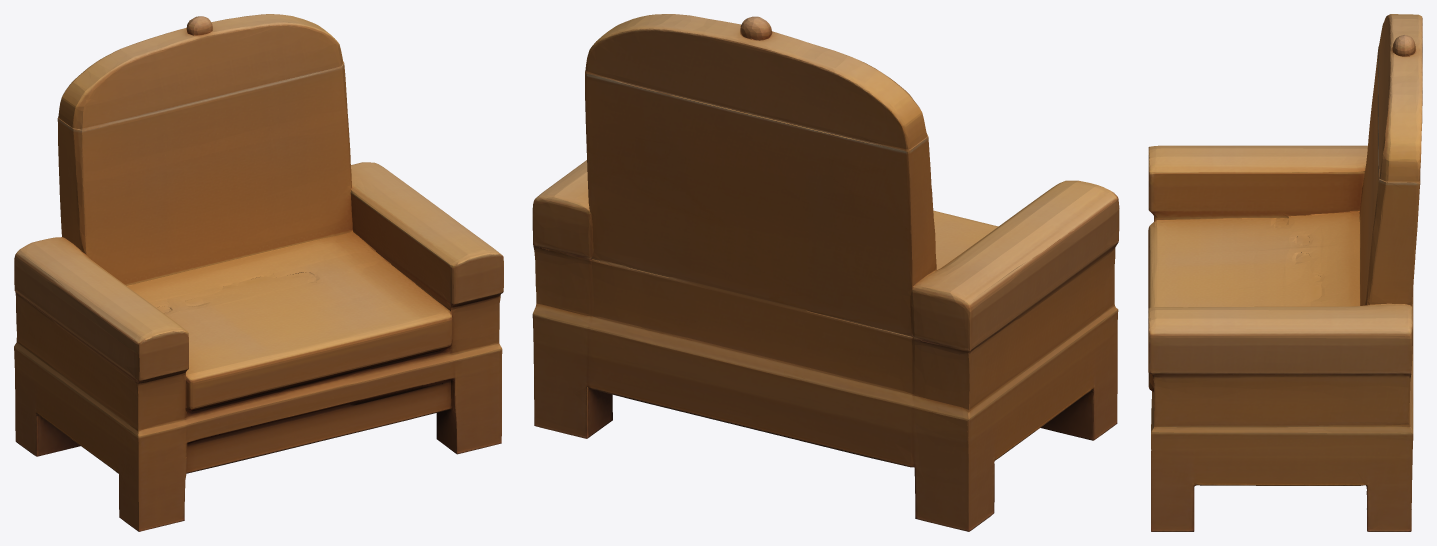
File: sofa_4.glb
The picture shows the model from 3 angles, left to right: view 1: azimuth 30°, elevation 25°; view 2: azimuth 150°, elevation 25°; view 3: azimuth 270°, elevation 25°; orthographic projection. The views are drawn at different scales.
Parts seen in each view (by area): view 1: world; view 2: world; view 3: world.
Boxes of the visible parts, x1=… form: world: x1=14, y1=14, x2=503, y2=531; world: x1=532, y1=14, x2=1119, y2=531; world: x1=1148, y1=14, x2=1422, y2=531.
Bounding box in the file's own units: 0.6544 × 0.6529 × 0.4036.
1 material, 1 textured.
